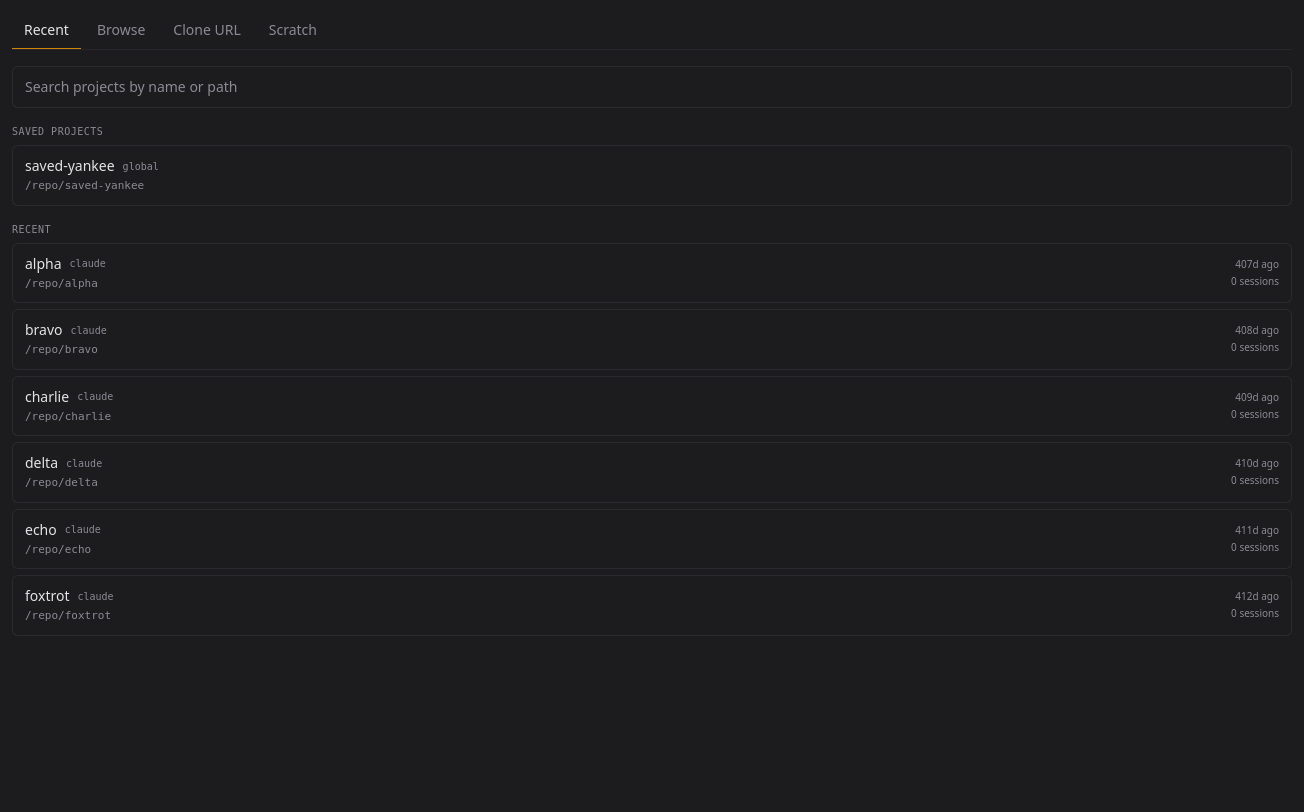
Test case: project search › filters saved projects too
Expected: the text "saved-yankee" is shown, x1=25 y1=156 x2=115 y2=176
Type "yank" into the field labelled "Search projects" at (652, 87), box x1=12 y1=66 x2=1292 y2=108
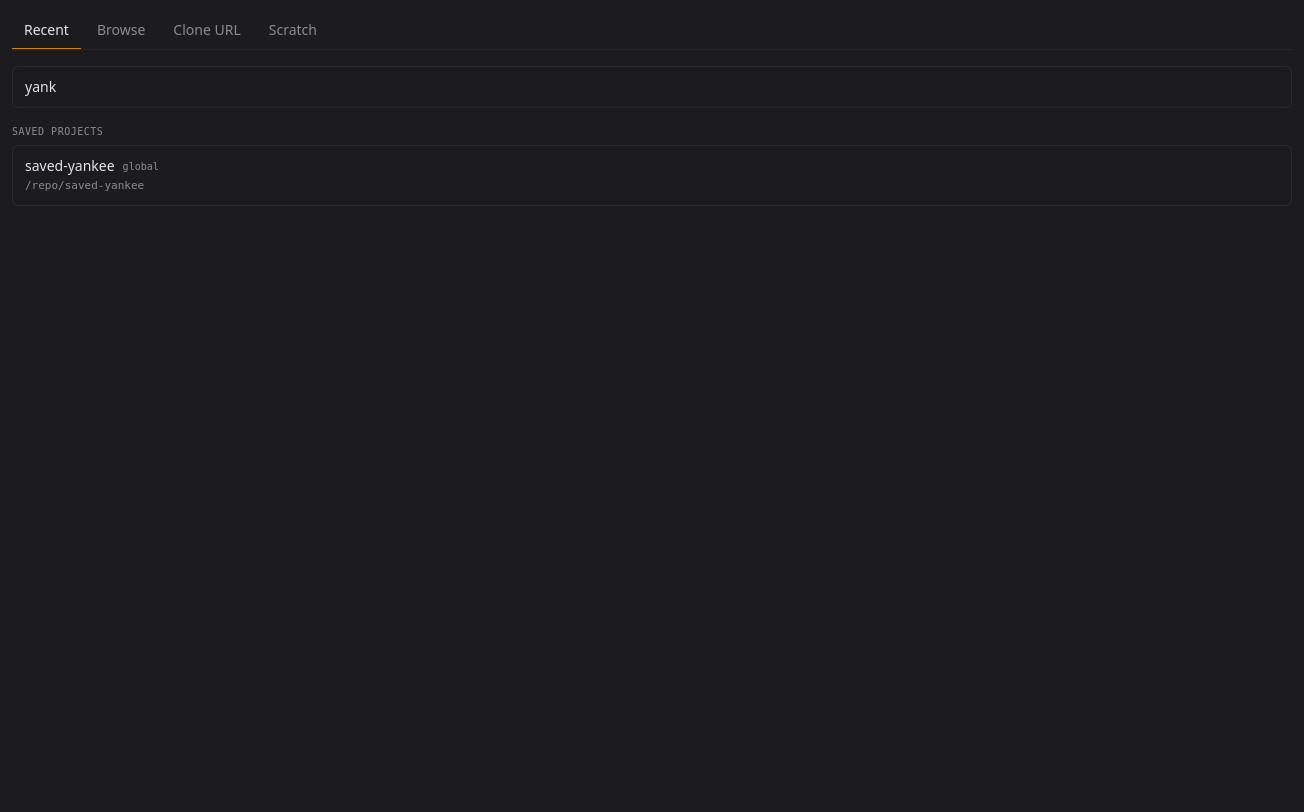
Expected: the button "alpha" is gone
Replace the text in the field named "Search projects" with "alpha" at (652, 87), box x1=12 y1=66 x2=1292 y2=108
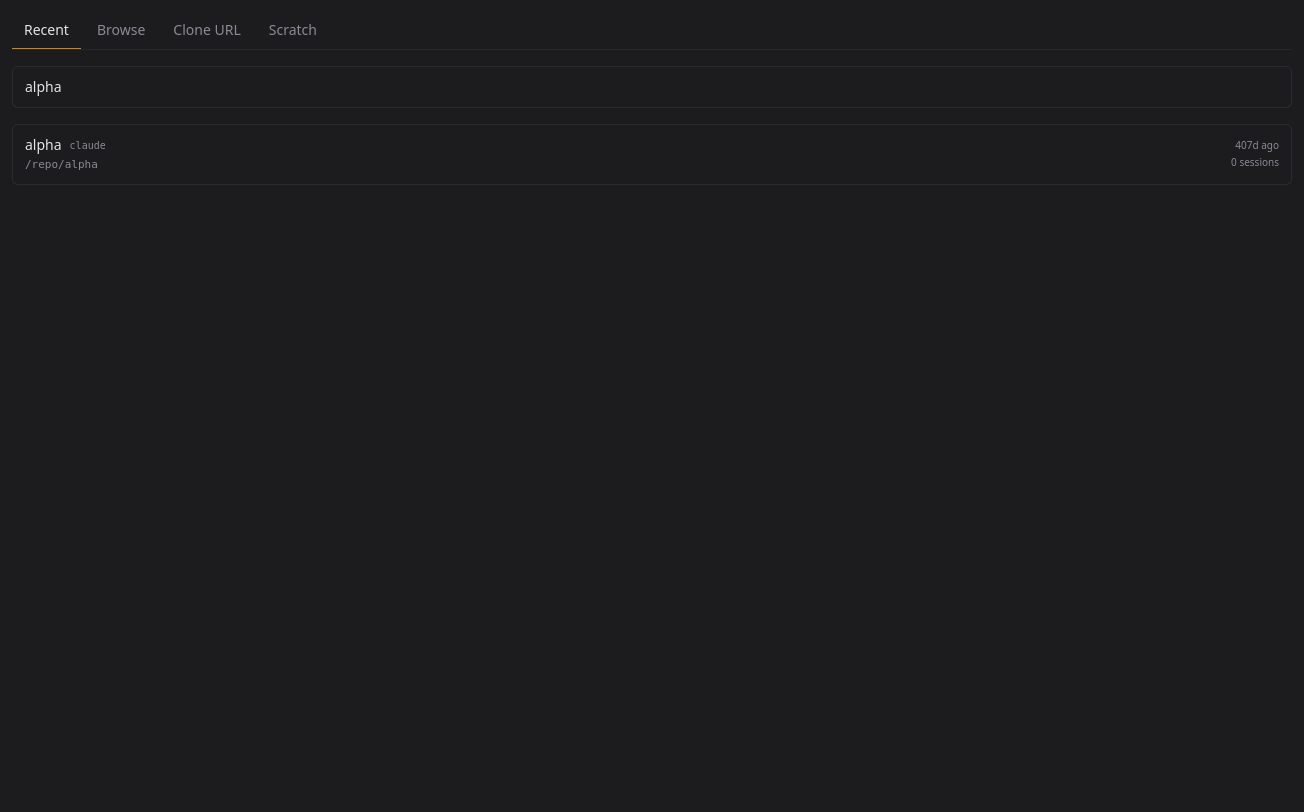
Expected: the text "alpha" is shown, x1=25 y1=135 x2=62 y2=155
Expected: the button "saved-yankee" is gone
